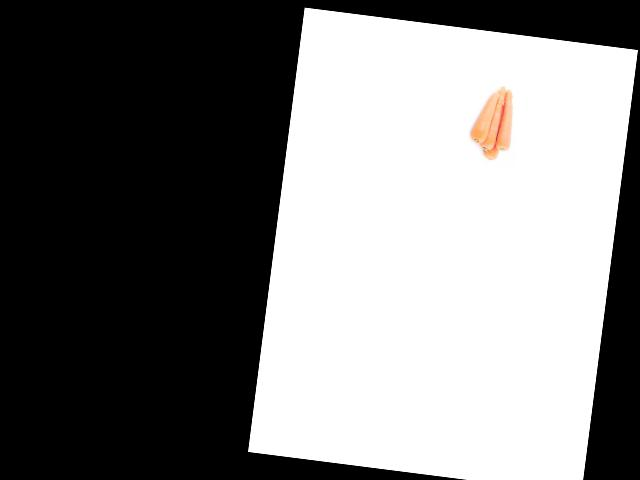carrot: (469, 87, 494, 146)
